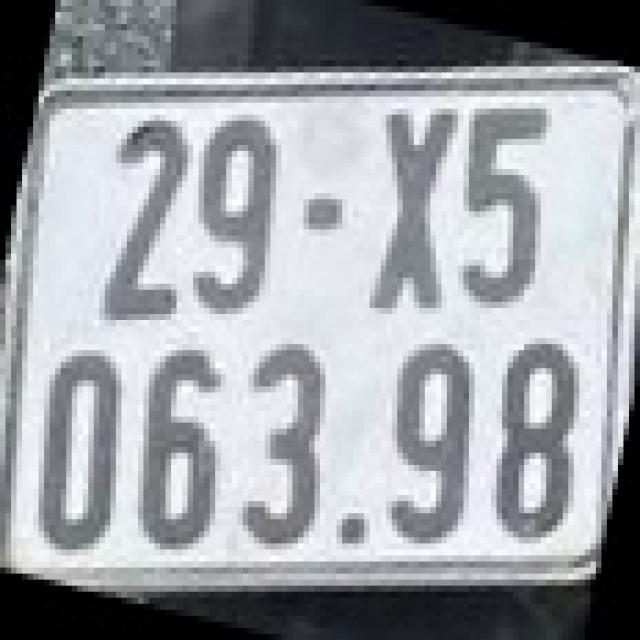0: (32, 344, 122, 550)
2: (99, 114, 188, 320)
3: (242, 338, 326, 544)
5: (458, 103, 552, 302)
6: (138, 344, 221, 550)
8: (490, 338, 580, 537)
9: (386, 338, 474, 544), (192, 115, 282, 314)
X: (370, 109, 452, 308)
